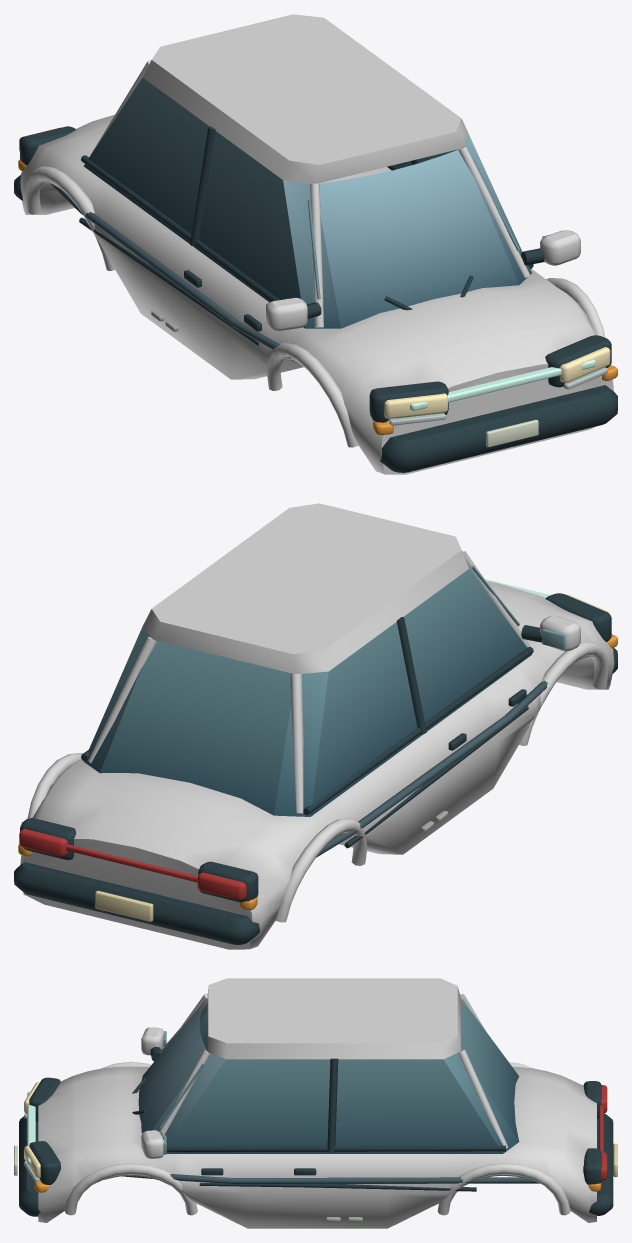
File: pulse.glb
The picture shows the model from 3 angles, top to bottom: view 1: azimuth 30°, elevation 25°; view 2: azimuth 150°, elevation 25°; view 3: azimuth 270°, elevation 25°; orthographic projection. The views are drawn at different scales.
Visible parts, largest first — view 1: Chassis, Headlamps; view 2: Chassis, BrakeLamps; view 3: Chassis, Headlamps, BrakeLamps.
Boxes of the visible parts, bbox=[...] form: Chassis: bbox=[14, 14, 617, 474]; Headlamps: bbox=[384, 347, 610, 418]; Chassis: bbox=[14, 503, 617, 949]; BrakeLamps: bbox=[19, 829, 246, 900]; Chassis: bbox=[14, 978, 617, 1228]; Headlamps: bbox=[24, 1082, 40, 1178]; BrakeLamps: bbox=[599, 1085, 607, 1180].
Bounding box in the file's own units: 1.76 × 1.21 × 3.84.
